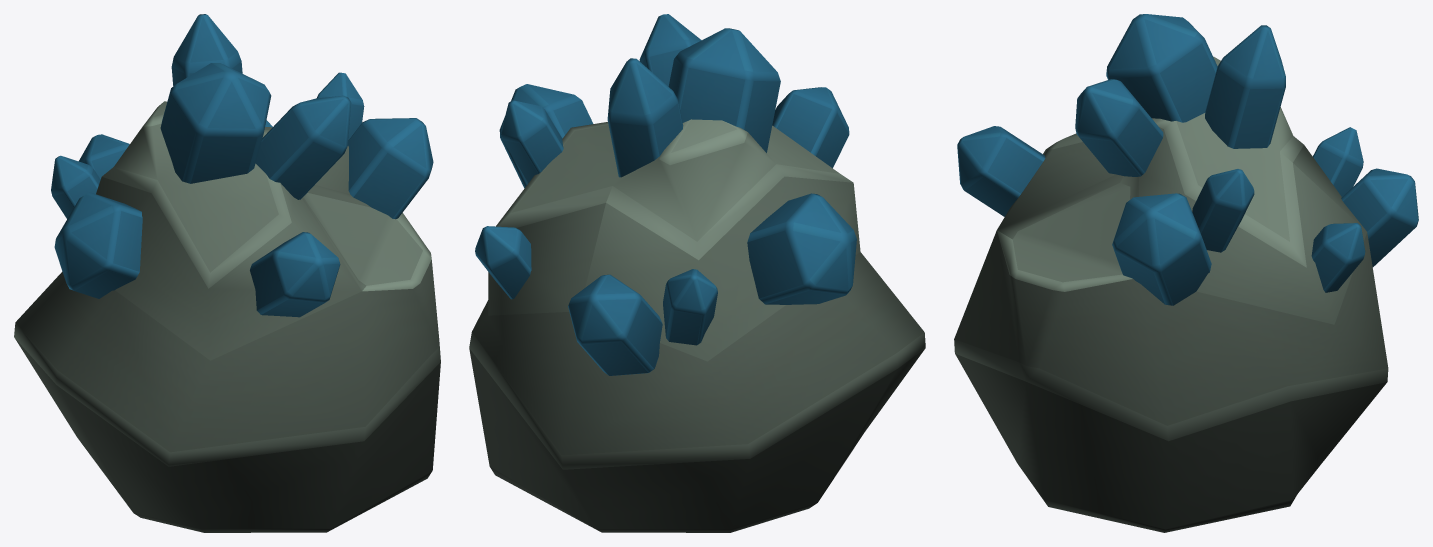
The model's file is ore_christal_saphire_L.fbx.
The picture shows the model from 3 angles, left to right: view 1: azimuth 30°, elevation 25°; view 2: azimuth 150°, elevation 25°; view 3: azimuth 270°, elevation 25°; orthographic projection. The views are drawn at different scales.
Visible parts, largest first — view 1: ore_christal_saphire_L; view 2: ore_christal_saphire_L; view 3: ore_christal_saphire_L.
Part boxes in pixels (x1=…): ore_christal_saphire_L: x1=14, y1=14, x2=440, y2=532; ore_christal_saphire_L: x1=469, y1=14, x2=925, y2=532; ore_christal_saphire_L: x1=954, y1=14, x2=1418, y2=532.
Size of the model in its own units: 211 by 252 by 218.
Materials: 1 (1 with a texture image).
